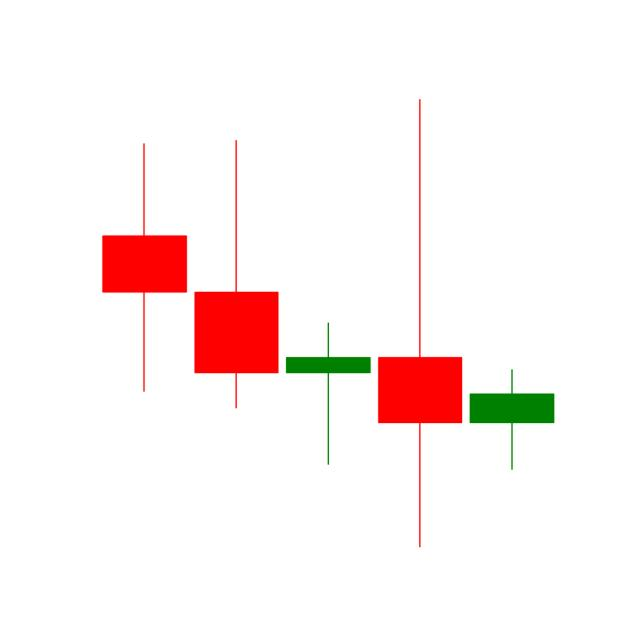Shooting Star: (373, 94, 467, 552), (192, 127, 283, 417)
spinning top: (95, 132, 188, 402)
